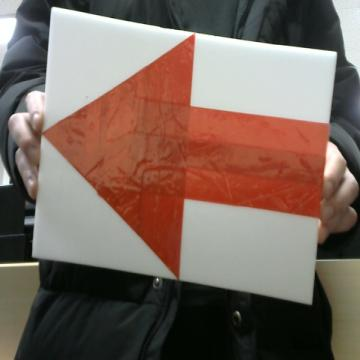red_left: (43, 34, 328, 277)
